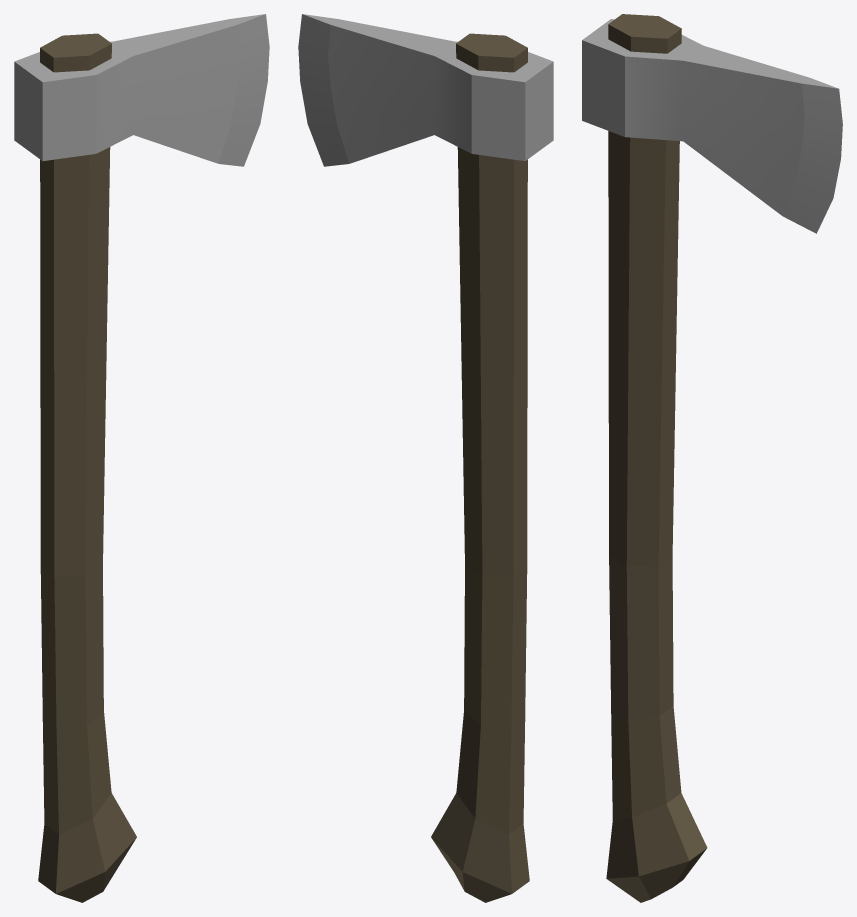
Rendered from Axe.fbx.
3 renders of one model, left to right at view 1: azimuth 30°, elevation 25°; view 2: azimuth 150°, elevation 25°; view 3: azimuth 330°, elevation 25°, orthographic. The views are drawn at different scales.
Parts seen in each view (by area): view 1: Axe:Axe; view 2: Axe:Axe; view 3: Axe:Axe.
Part boxes in pixels (x1,y1,x2,y2): Axe:Axe: (14, 14, 269, 902); Axe:Axe: (298, 14, 553, 902); Axe:Axe: (582, 14, 842, 902).
Bounding box in the file's own units: 0.183 × 0.6191 × 0.0527.
